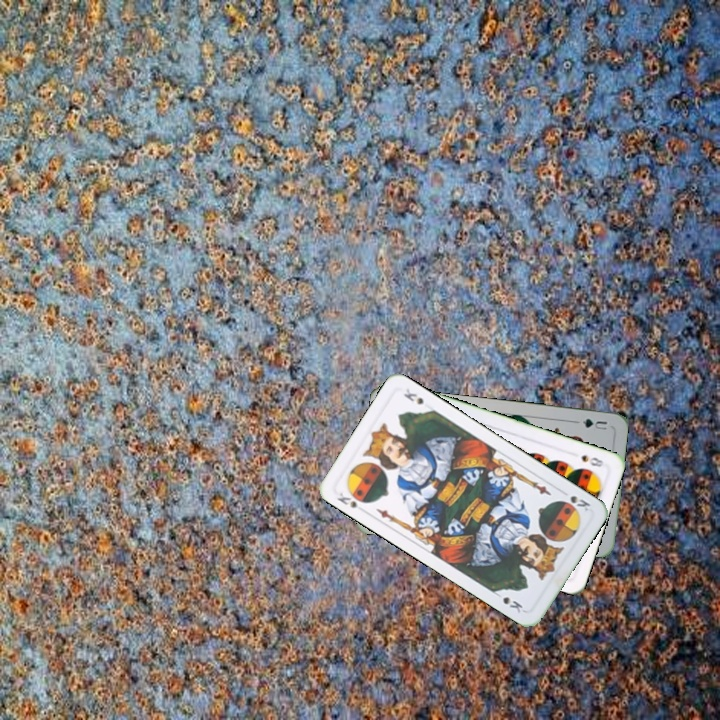GU: (578, 415, 609, 432)
S8: (577, 451, 609, 470)
SK: (566, 491, 593, 514), (333, 489, 359, 511)
